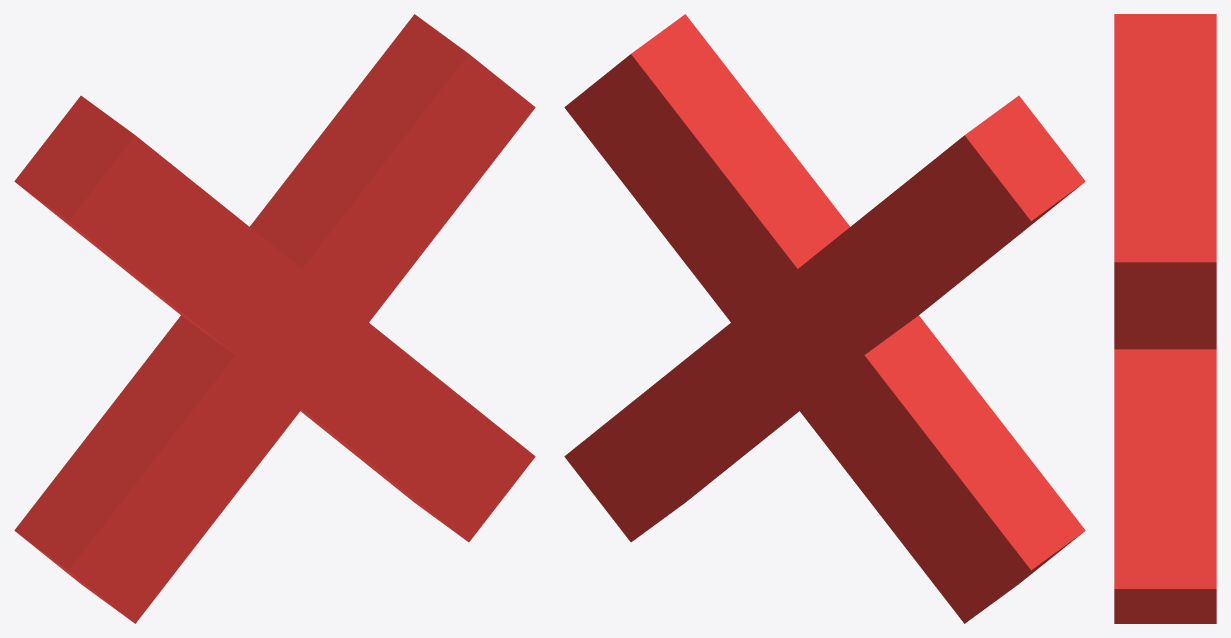
The model's file is cross_mark.glb.
3 renders of one model, left to right at view 1: azimuth 30°, elevation 25°; view 2: azimuth 150°, elevation 25°; view 3: azimuth 270°, elevation 25°, orthographic. The views are drawn at different scales.
Parts seen in each view (by area): view 1: Cube.6461; view 2: Cube.6461; view 3: Cube.6461.
Boxes of the visible parts, x1,y1,x2,y2 form: Cube.6461: (14,14,535,623); Cube.6461: (564,14,1085,623); Cube.6461: (1114,14,1216,623).
Bounding box in the file's own units: 1.98 × 1.98 × 0.4.
Materials: 1 (1 with a texture image).
